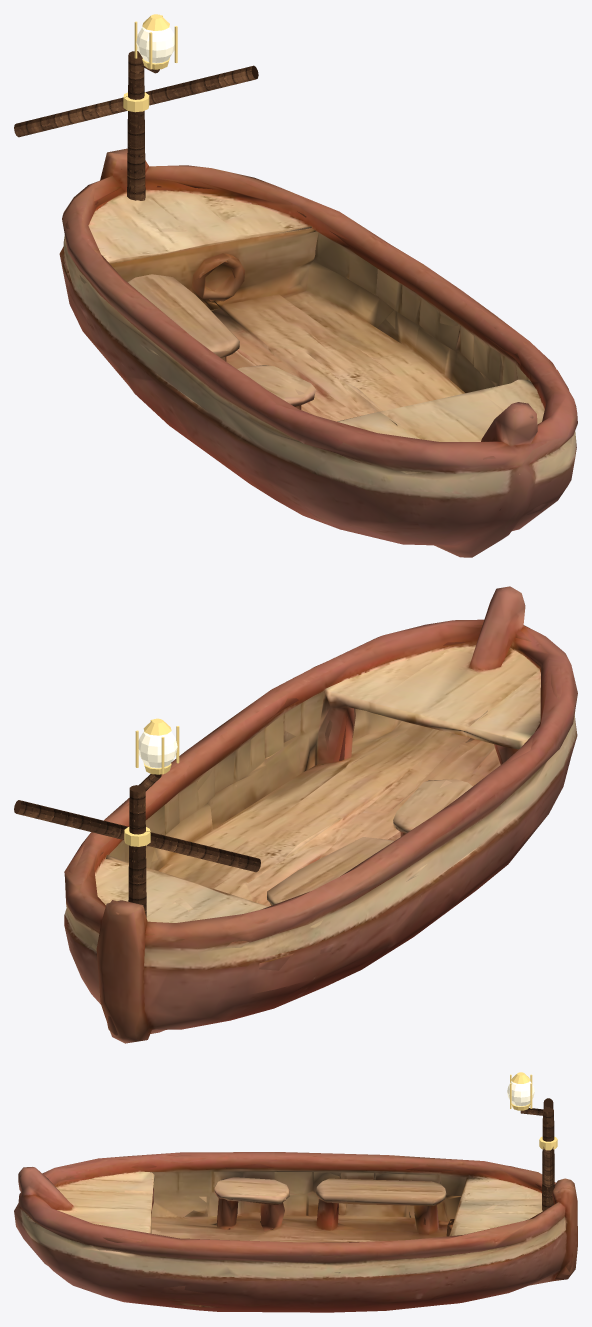
Rendered from rescue-boat.glb.
The picture shows the model from 3 angles, top to bottom: view 1: azimuth 30°, elevation 25°; view 2: azimuth 150°, elevation 25°; view 3: azimuth 270°, elevation 25°; orthographic projection. The views are drawn at different scales.
Visible parts, largest first — view 1: object 1, boat-post; view 2: object 1, boat-post; view 3: object 1, boat-post.
Boxes of the visible parts, left/top/right/bottom form: object 1: left=59, top=148, right=577, bottom=557; boat-post: left=14, top=14, right=258, bottom=200; object 1: left=64, top=586, right=577, bottom=1043; boat-post: left=14, top=718, right=260, bottom=917; object 1: left=14, top=1152, right=577, bottom=1312; boat-post: left=507, top=1072, right=557, bottom=1210.
Bounding box in the file's own units: 3.41 × 3.66 × 8.6.
4 materials, 2 textured.
